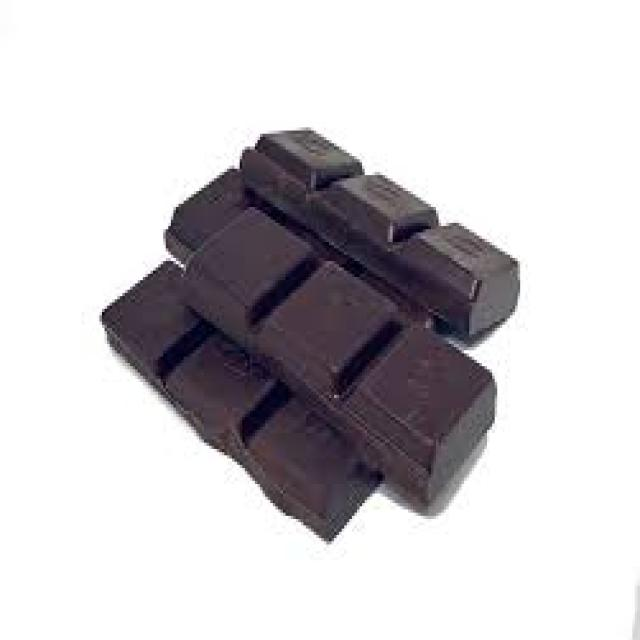Chocolate: (102, 124, 520, 543)
